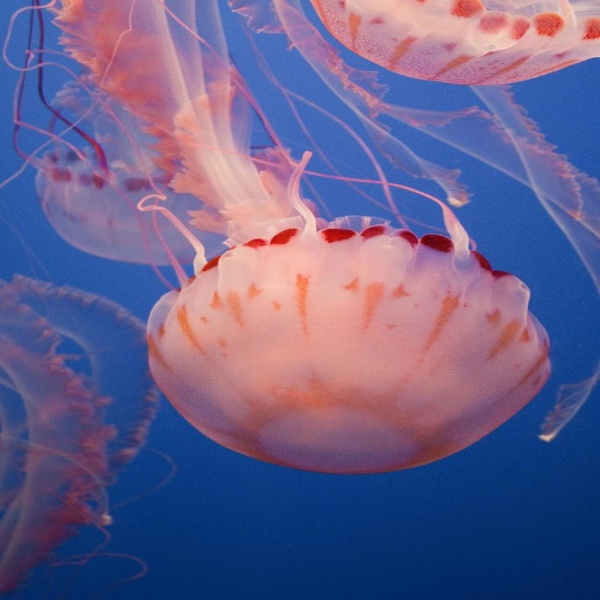Jellyfish: (303, 0, 599, 443), (0, 0, 468, 262), (0, 276, 161, 599)
